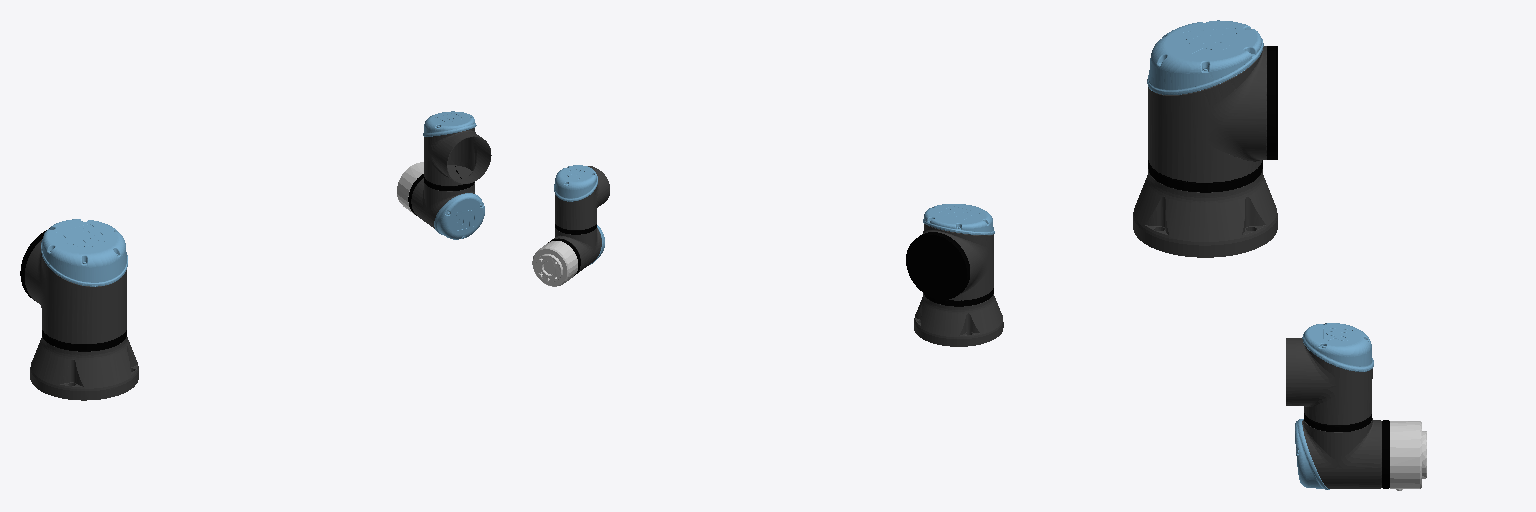
The robot description file, URDF, robot "ur16e_robot":
<?xml version="1.0" ?>
<!-- =================================================================================== -->
<!-- |    This document was autogenerated by xacro from UniversalRobots/Universal_Robots_ROS2_Description 4.3.1 urdf/ur.urdf.xacro | -->
<!-- |    EDITING THIS FILE BY HAND IS NOT RECOMMENDED                                 | -->
<!-- =================================================================================== -->
<robot name="ur16e_robot">
  <!--
    Base UR robot series xacro macro.

    NOTE this is NOT a URDF. It cannot directly be loaded by consumers
    expecting a flattened '.urdf' file. See the top-level '.xacro' for that
    (but note that .xacro must still be processed by the xacro command).

    This file models the base kinematic chain of a UR robot, which then gets
    parameterised by various configuration files to convert it into a UR3(e),
    UR5(e), UR10(e) or UR16e, etc.

    NOTE the default kinematic parameters (i.e., link lengths, frame locations,
    offsets, etc) do not correspond to any particular robot. They are defaults
    only. There WILL be non-zero offsets between the Forward Kinematics results
    in TF (i.e., robot_state_publisher) and the values reported by the Teach
    Pendant.

    For accurate (and robot-specific) transforms, the 'kinematics_parameters_file'
    parameter MUST point to a .yaml file containing the appropriate values for
    the targeted robot.

    If using the UniversalRobots/Universal_Robots_ROS_Driver, follow the steps
    described in the readme of that repository to extract the kinematic
    calibration from the controller and generate the required .yaml file.

    Main author of the migration to yaml configs Ludovic Delval.

    Contributors to previous versions (in no particular order)

     - Denis Stogl
     - Lovro Ivanov
     - Felix Messmer
     - Kelsey Hawkins
     - Wim Meeussen
     - Shaun Edwards
     - Nadia Hammoudeh Garcia
     - Dave Hershberger
     - G. vd. Hoorn
     - Philip Long
     - Dave Coleman
     - Miguel Prada
     - Mathias Luedtke
     - Marcel Schnirring
     - Felix von Drigalski
     - Felix Exner
     - Jimmy Da Silva
     - Ajit Krisshna N L
     - Muhammad Asif Rana
  -->
  <!-- links -  main serial chain -->
  <!-- base_link serves as the root of the robot's kinematic tree. It follows REP-103
        conventions (i.e., X+ forward, Y+ left, Z+ up).
        Since some kinematic solvers forbid having inertia values attached to a root link, we've
        added the base_link_inertia link that carries the visual, collision and inertia
        information.
    -->
  <link name="base_link"/>
  <link name="base_link_inertia">
    <visual>
      <origin rpy="0.0 0.0 3.141592653589793" xyz="0.0 0.0 0.0"/>
      <geometry>
        <mesh filename="package://ur_description/meshes/ur10e/visual/base.dae"/>
      </geometry>
    </visual>
    <collision>
      <origin rpy="0.0 0.0 3.141592653589793" xyz="0.0 0.0 0.0"/>
      <geometry>
        <mesh filename="package://ur_description/meshes/ur10e/collision/base.stl"/>
      </geometry>
    </collision>
    <inertial>
      <mass value="4.0"/>
      <origin rpy="0 0 0" xyz="0 0 0"/>
      <inertia ixx="0.0061063308908" ixy="0.0" ixz="0.0" iyy="0.0061063308908" iyz="0.0" izz="0.01125"/>
    </inertial>
  </link>
  <link name="shoulder_link">
    <visual>
      <origin rpy="0.0 0.0 3.141592653589793" xyz="0.0 0.0 0.0"/>
      <geometry>
        <mesh filename="package://ur_description/meshes/ur10e/visual/shoulder.dae"/>
      </geometry>
    </visual>
    <collision>
      <origin rpy="0.0 0.0 3.141592653589793" xyz="0.0 0.0 0.0"/>
      <geometry>
        <mesh filename="package://ur_description/meshes/ur10e/collision/shoulder.stl"/>
      </geometry>
    </collision>
    <inertial>
      <mass value="7.369"/>
      <origin rpy="1.570796326794897 0 0" xyz="0.0 -0.03 -0.016"/>
      <inertia ixx="0.03351" ixy="2e-05" ixz="-1e-05" iyy="0.03374" iyz="0.00374" izz="0.021"/>
    </inertial>
  </link>
  <link name="upper_arm_link">
    <visual>
      <origin rpy="1.5707963267948966 0.0 -1.5707963267948966" xyz="0.0 0.0 0.1762"/>
      <geometry>
        <mesh filename="package://ur_description/meshes/ur16e/visual/upperarm.dae"/>
      </geometry>
    </visual>
    <collision>
      <origin rpy="1.5707963267948966 0.0 -1.5707963267948966" xyz="0.0 0.0 0.1762"/>
      <geometry>
        <mesh filename="package://ur_description/meshes/ur16e/collision/upperarm.stl"/>
      </geometry>
    </collision>
    <inertial>
      <mass value="10.45"/>
      <origin rpy="0 0 0" xyz="-0.1764 0.0 0.16"/>
      <inertia ixx="0.02796" ixy="-0.0001" ixz="-0.0072" iyy="0.47558" iyz="3e-05" izz="0.47635"/>
    </inertial>
  </link>
  <link name="forearm_link">
    <visual>
      <origin rpy="1.5707963267948966 0.0 -1.5707963267948966" xyz="0.0 0.0 0.0393"/>
      <geometry>
        <mesh filename="package://ur_description/meshes/ur16e/visual/forearm.dae"/>
      </geometry>
    </visual>
    <collision>
      <origin rpy="1.5707963267948966 0.0 -1.5707963267948966" xyz="0.0 0.0 0.0393"/>
      <geometry>
        <mesh filename="package://ur_description/meshes/ur16e/collision/forearm.stl"/>
      </geometry>
    </collision>
    <inertial>
      <mass value="4.321"/>
      <origin rpy="0 0 0" xyz="-0.166 0.0 0.065"/>
      <inertia ixx="0.01091" ixy="6e-05" ixz="0.01012" iyy="0.1206" iyz="1e-05" izz="0.11714"/>
    </inertial>
  </link>
  <link name="wrist_1_link">
    <visual>
      <origin rpy="1.5707963267948966 0.0 0.0" xyz="0.0 0.0 -0.135"/>
      <geometry>
        <mesh filename="package://ur_description/meshes/ur10e/visual/wrist1.dae"/>
      </geometry>
    </visual>
    <collision>
      <origin rpy="1.5707963267948966 0.0 0.0" xyz="0.0 0.0 -0.135"/>
      <geometry>
        <mesh filename="package://ur_description/meshes/ur10e/collision/wrist1.stl"/>
      </geometry>
    </collision>
    <inertial>
      <mass value="2.18"/>
      <origin rpy="1.570796326794897 0 0" xyz="0.0 -0.011 -0.009"/>
      <inertia ixx="0.00609" ixy="-1e-05" ixz="0.0" iyy="0.00245" iyz="0.00083" izz="0.00579"/>
    </inertial>
  </link>
  <link name="wrist_2_link">
    <visual>
      <origin rpy="0.0 0.0 0.0" xyz="0.0 0.0 -0.12"/>
      <geometry>
        <mesh filename="package://ur_description/meshes/ur10e/visual/wrist2.dae"/>
      </geometry>
    </visual>
    <collision>
      <origin rpy="0.0 0.0 0.0" xyz="0.0 0.0 -0.12"/>
      <geometry>
        <mesh filename="package://ur_description/meshes/ur10e/collision/wrist2.stl"/>
      </geometry>
    </collision>
    <inertial>
      <mass value="2.033"/>
      <origin rpy="-1.570796326794897 0 0" xyz="0.0 0.012 -0.018"/>
      <inertia ixx="0.00389" ixy="-1e-05" ixz="0.0" iyy="0.00219" iyz="-0.00045" izz="0.00363"/>
    </inertial>
  </link>
  <link name="wrist_3_link">
    <visual>
      <origin rpy="1.5707963267948966 0.0 0.0" xyz="0.0 -0.0005 -0.1168"/>
      <geometry>
        <mesh filename="package://ur_description/meshes/ur10e/visual/wrist3.dae"/>
      </geometry>
    </visual>
    <collision>
      <origin rpy="1.5707963267948966 0.0 0.0" xyz="0.0 -0.0005 -0.1168"/>
      <geometry>
        <mesh filename="package://ur_description/meshes/ur10e/collision/wrist3.stl"/>
      </geometry>
    </collision>
    <inertial>
      <mass value="0.907"/>
      <origin rpy="0 0 0" xyz="0.0 0.0 -0.044"/>
      <inertia ixx="0.00117" ixy="0.0" ixz="0.0" iyy="0.00118" iyz="0.0" izz="0.00084"/>
    </inertial>
  </link>
  <!-- joints - main serial chain -->
  <joint name="base_link-base_link_inertia" type="fixed">
    <parent link="base_link"/>
    <child link="base_link_inertia"/>
    <!-- 'base_link' is REP-103 aligned (so X+ forward), while the internal
           frames of the robot/controller have X+ pointing backwards.
           Use the joint between 'base_link' and 'base_link_inertia' (a dummy
           link/frame) to introduce the necessary rotation over Z (of pi rad).
      -->
    <origin rpy="0 0 3.141592653589793" xyz="0 0 0"/>
  </joint>
  <joint name="shoulder_pan_joint" type="revolute">
    <parent link="base_link_inertia"/>
    <child link="shoulder_link"/>
    <origin rpy="0 0 0" xyz="0 0 0.1807"/>
    <axis xyz="0 0 1"/>
    <limit effort="330.0" lower="-6.283185307179586" upper="6.283185307179586" velocity="2.0943951023931953"/>
    <dynamics damping="0" friction="0"/>
  </joint>
  <joint name="shoulder_lift_joint" type="revolute">
    <parent link="shoulder_link"/>
    <child link="upper_arm_link"/>
    <origin rpy="1.570796327 0 0" xyz="0 0 0"/>
    <axis xyz="0 0 1"/>
    <limit effort="330.0" lower="-6.283185307179586" upper="6.283185307179586" velocity="2.0943951023931953"/>
    <dynamics damping="0" friction="0"/>
  </joint>
  <joint name="elbow_joint" type="revolute">
    <parent link="upper_arm_link"/>
    <child link="forearm_link"/>
    <origin rpy="0 0 0" xyz="-0.4784 0 0"/>
    <axis xyz="0 0 1"/>
    <limit effort="150.0" lower="-3.141592653589793" upper="3.141592653589793" velocity="3.141592653589793"/>
    <dynamics damping="0" friction="0"/>
  </joint>
  <joint name="wrist_1_joint" type="revolute">
    <parent link="forearm_link"/>
    <child link="wrist_1_link"/>
    <origin rpy="0 0 0" xyz="-0.36 0 0.17415"/>
    <axis xyz="0 0 1"/>
    <limit effort="54.0" lower="-6.283185307179586" upper="6.283185307179586" velocity="3.141592653589793"/>
    <dynamics damping="0" friction="0"/>
  </joint>
  <joint name="wrist_2_joint" type="revolute">
    <parent link="wrist_1_link"/>
    <child link="wrist_2_link"/>
    <origin rpy="1.570796327 0 0" xyz="0 -0.11985 -2.458164590756244e-11"/>
    <axis xyz="0 0 1"/>
    <limit effort="54.0" lower="-6.283185307179586" upper="6.283185307179586" velocity="3.141592653589793"/>
    <dynamics damping="0" friction="0"/>
  </joint>
  <joint name="wrist_3_joint" type="revolute">
    <parent link="wrist_2_link"/>
    <child link="wrist_3_link"/>
    <origin rpy="1.570796326589793 3.141592653589793 3.141592653589793" xyz="0 0.11655 -2.390480459346185e-11"/>
    <axis xyz="0 0 1"/>
    <limit effort="54.0" lower="-6.283185307179586" upper="6.283185307179586" velocity="3.141592653589793"/>
    <dynamics damping="0" friction="0"/>
  </joint>
  <link name="ft_frame"/>
  <joint name="wrist_3_link-ft_frame" type="fixed">
    <parent link="wrist_3_link"/>
    <child link="ft_frame"/>
    <origin rpy="3.141592653589793 0 0" xyz="0 0 0"/>
  </joint>
  <!-- ROS-Industrial 'base' frame - base_link to UR 'Base' Coordinates transform -->
  <link name="base"/>
  <joint name="base_link-base_fixed_joint" type="fixed">
    <!-- Note the rotation over Z of pi radians - as base_link is REP-103
           aligned (i.e., has X+ forward, Y+ left and Z+ up), this is needed
           to correctly align 'base' with the 'Base' coordinate system of
           the UR controller.
      -->
    <origin rpy="0 0 3.141592653589793" xyz="0 0 0"/>
    <parent link="base_link"/>
    <child link="base"/>
  </joint>
  <!-- ROS-Industrial 'flange' frame - attachment point for EEF models -->
  <link name="flange"/>
  <joint name="wrist_3-flange" type="fixed">
    <parent link="wrist_3_link"/>
    <child link="flange"/>
    <origin rpy="0 -1.5707963267948966 -1.5707963267948966" xyz="0 0 0"/>
  </joint>
  <!-- ROS-Industrial 'tool0' frame - all-zeros tool frame -->
  <link name="tool0"/>
  <joint name="flange-tool0" type="fixed">
    <!-- default toolframe - X+ left, Y+ up, Z+ front -->
    <origin rpy="1.5707963267948966 0 1.5707963267948966" xyz="0 0 0"/>
    <parent link="flange"/>
    <child link="tool0"/>
  </joint>
</robot>

--- What the picture shows (computed from the rendered views, not written in the file) ---
3 views of the same robot in one strip: view 1: azimuth 30°, elevation 25°; view 2: azimuth 150°, elevation 25°; view 3: azimuth 270°, elevation 25° (orthographic).
Model ur16e_robot with 12 links and 11 joints (6 revolute, 5 fixed), rooted at base_link, posed every joint at zero.
Visible links, largest first — view 1: shoulder_link, base_link_inertia, wrist_1_link, wrist_2_link, wrist_3_link; view 2: shoulder_link, base_link_inertia, wrist_1_link, wrist_3_link, wrist_2_link; view 3: shoulder_link, base_link_inertia, wrist_1_link, wrist_2_link, wrist_3_link.
Link boxes in pixels (box(x1,y1,x2,y2)): shoulder_link: box(20, 219, 127, 343); base_link_inertia: box(30, 330, 138, 400); wrist_1_link: box(423, 111, 491, 190); wrist_2_link: box(408, 174, 484, 239); wrist_3_link: box(397, 162, 423, 214); shoulder_link: box(906, 204, 994, 300); base_link_inertia: box(914, 288, 1003, 346); wrist_1_link: box(554, 165, 609, 234); wrist_3_link: box(532, 241, 577, 286); wrist_2_link: box(548, 225, 604, 275); shoulder_link: box(1147, 20, 1277, 182); base_link_inertia: box(1133, 160, 1277, 257); wrist_1_link: box(1286, 323, 1373, 431); wrist_2_link: box(1295, 418, 1389, 489); wrist_3_link: box(1390, 421, 1426, 490).
Size in the robot's own frame: 0.9804 by 0.3857 by 0.2746 metres.
Meshes: 7 distinct files referenced, 5 mesh visuals loaded (5 Collada DAE); not drawn: 2 (reference not matched to a file when rendering).
